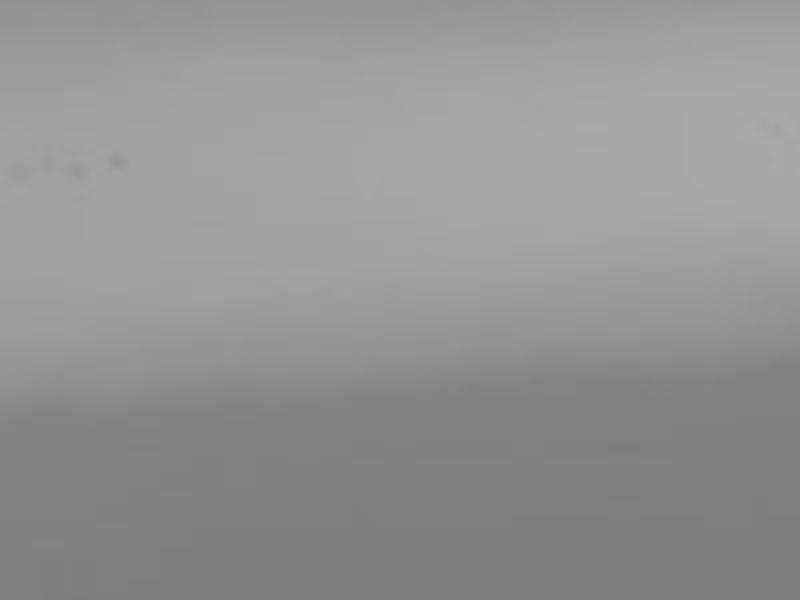defect: (104, 149, 125, 172), (65, 161, 85, 176)
